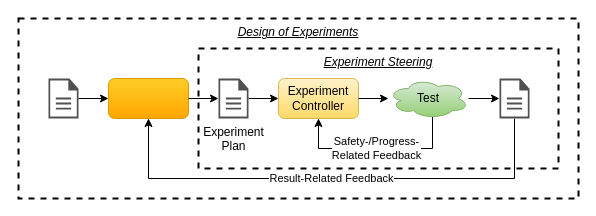
Some shapes in this 596 by 216 pixel diagram are drawn without their labels. Each missing label, with the centre of its shape:
"Experiment Design Plan" belongs at point (63, 98).
"Experiment Planner" belongs at point (148, 98).
"Experiment Result" belongs at point (514, 98).
